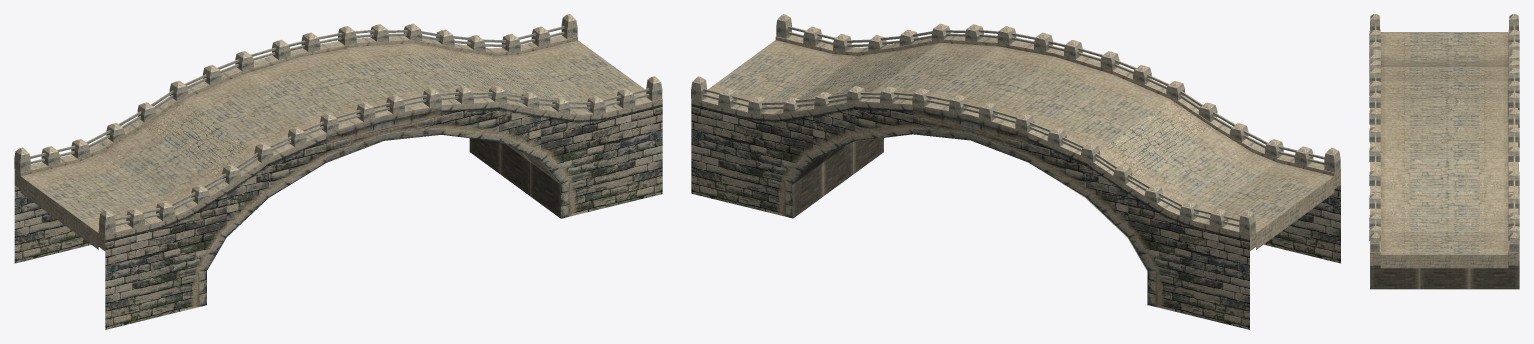
The model's file is desert_-bridge01.fbx.
The picture shows the model from 3 angles, left to right: view 1: azimuth 30°, elevation 25°; view 2: azimuth 150°, elevation 25°; view 3: azimuth 270°, elevation 25°; orthographic projection. The views are drawn at different scales.
Visible parts, largest first — view 1: desert_bridge01_02, Bip01; view 2: desert_bridge01_02, Bip01; view 3: desert_bridge01_02.
Boxes of the visible parts, x1,y1,x2,y2 form: desert_bridge01_02: (14,14,662,250); Bip01: (14,37,662,329); desert_bridge01_02: (691,14,1340,305); Bip01: (691,37,1340,329); desert_bridge01_02: (1369,14,1519,289).
Size of the model in its own units: 28.93 by 7.94 by 8.24.
